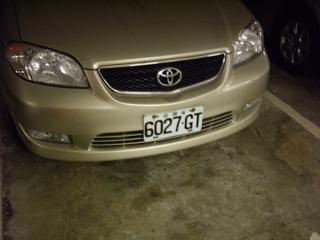plate: (141, 109, 204, 138)
